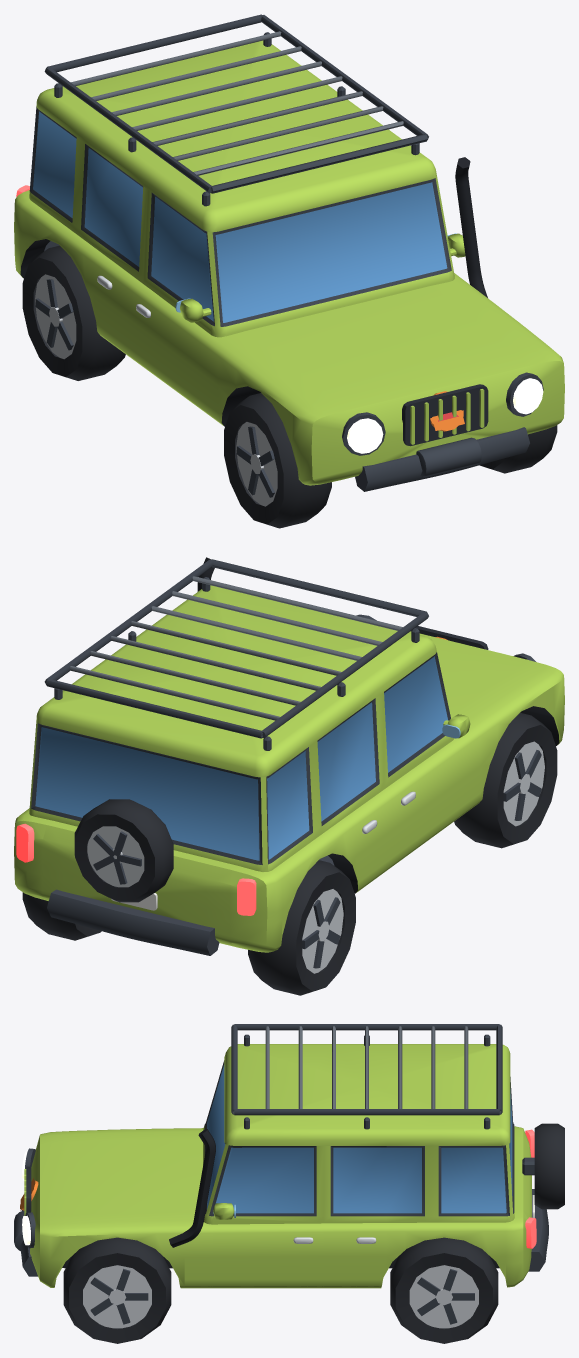
File: jipe_verde.glb
3 views of the same model, one above another, from view 1: azimuth 30°, elevation 25°; view 2: azimuth 150°, elevation 25°; view 3: azimuth 270°, elevation 25° (orthographic). The views are drawn at different scales.
Visible parts, largest first — view 1: jipe_verde, porta_dianteira_esq, roda_dianteira_esq, roda_traseira_esq, porta_traseira_esq, roda_dianteira_dir; view 2: jipe_verde, tampa_traseira, porta_dianteira_esq, roda_traseira_esq, roda_dianteira_esq, porta_traseira_esq, roda_traseira_dir; view 3: jipe_verde, porta_dianteira_dir, roda_traseira_dir, roda_dianteira_dir, porta_traseira_dir, tampa_traseira.
Part boxes in pixels (<box>): jipe_verde: <box>14,14,564,491</box>; porta_dianteira_esq: <box>132,189,217,399</box>; roda_dianteira_esq: <box>224,393,331,528</box>; roda_traseira_esq: <box>22,245,125,380</box>; porta_traseira_esq: <box>93,161,147,350</box>; roda_dianteira_dir: <box>479,425,557,473</box>; jipe_verde: <box>14,557,564,955</box>; tampa_traseira: <box>29,721,312,920</box>; porta_dianteira_esq: <box>379,652,463,855</box>; roda_traseira_esq: <box>248,860,355,995</box>; roda_dianteira_esq: <box>454,712,557,848</box>; porta_traseira_esq: <box>339,695,394,882</box>; roda_traseira_dir: <box>22,892,101,940</box>; jipe_verde: <box>14,1024,548,1288</box>; porta_dianteira_dir: <box>213,1144,323,1279</box>; roda_traseira_dir: <box>390,1237,498,1343</box>; roda_dianteira_dir: <box>63,1237,171,1343</box>; porta_traseira_dir: <box>323,1146,386,1279</box>; tampa_traseira: <box>438,1077,564,1221</box>.
Bounding box in the file's own units: 2.12 × 1.99 × 4.38.
5 materials, 2 textured.
